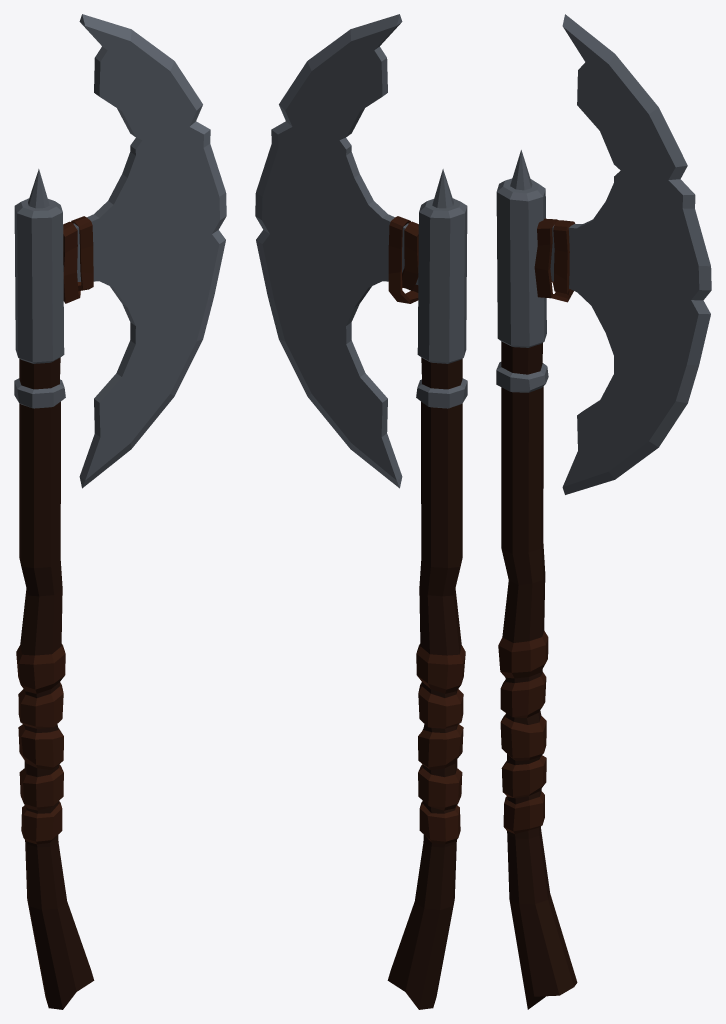
The model's file is Axe.glb.
3 views of the same model, side by side, from view 1: azimuth 30°, elevation 25°; view 2: azimuth 150°, elevation 25°; view 3: azimuth 330°, elevation 25° (orthographic).
Visible parts, largest first — view 1: Axe; view 2: Axe; view 3: Axe.
Boxes of the visible parts, x1=… form: Axe: x1=14, y1=14, x2=226, y2=1009; Axe: x1=255, y1=14, x2=467, y2=1009; Axe: x1=496, y1=14, x2=711, y2=1009.
Size of the model in its own units: 117 by 526 by 24.83.
